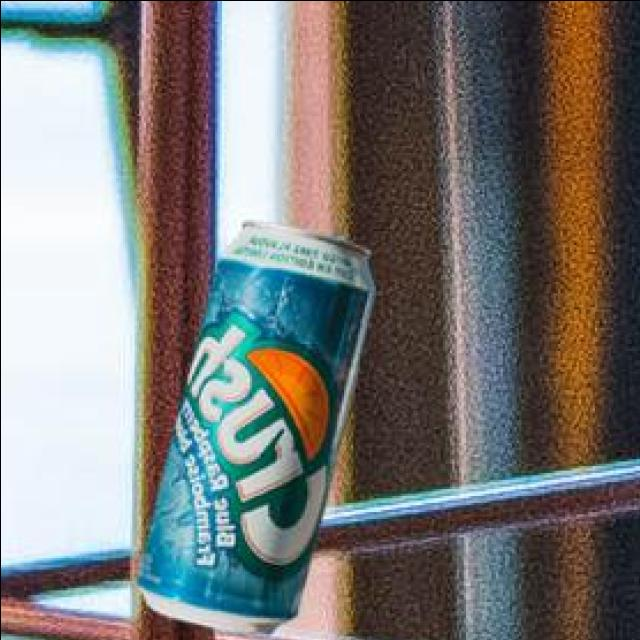logam: (139, 218, 376, 630)
